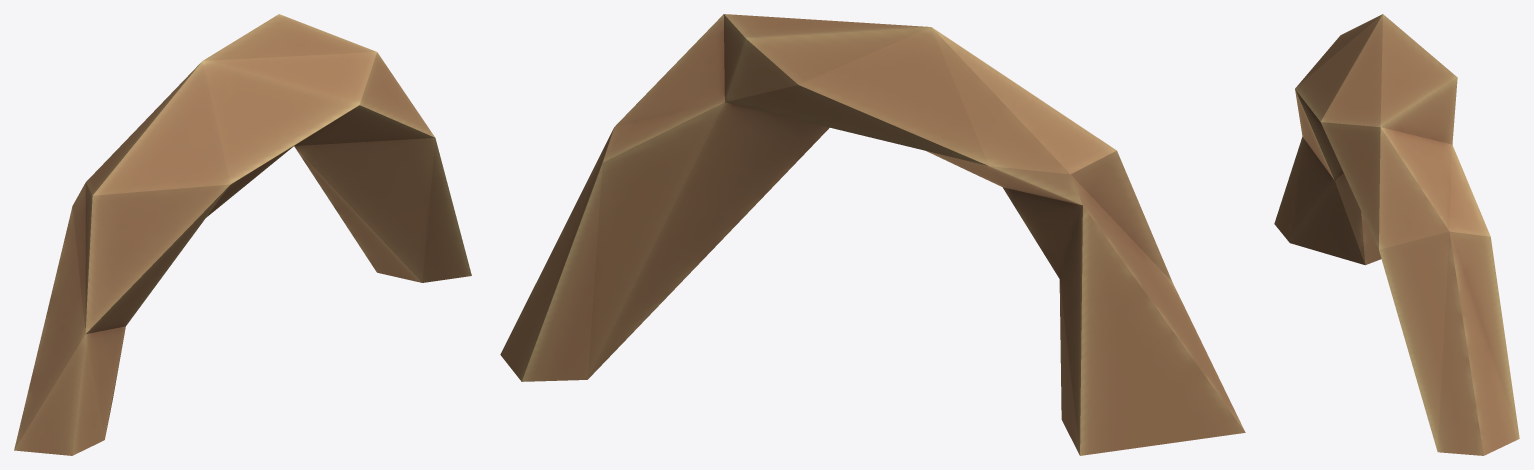
Rendered from Mountain rock_9.fbx.
3 renders of one model, left to right at view 1: azimuth 30°, elevation 25°; view 2: azimuth 150°, elevation 25°; view 3: azimuth 270°, elevation 25°, orthographic. The views are drawn at different scales.
Visible parts, largest first — view 1: Mountain rock_9; view 2: Mountain rock_9; view 3: Mountain rock_9.
Part boxes in pixels (<box>): Mountain rock_9: <box>14,14,471,455</box>; Mountain rock_9: <box>500,14,1245,455</box>; Mountain rock_9: <box>1274,14,1519,455</box>.
Bounding box in the file's own units: 272 × 113 × 151.
Materials: 1 (1 with a texture image).
